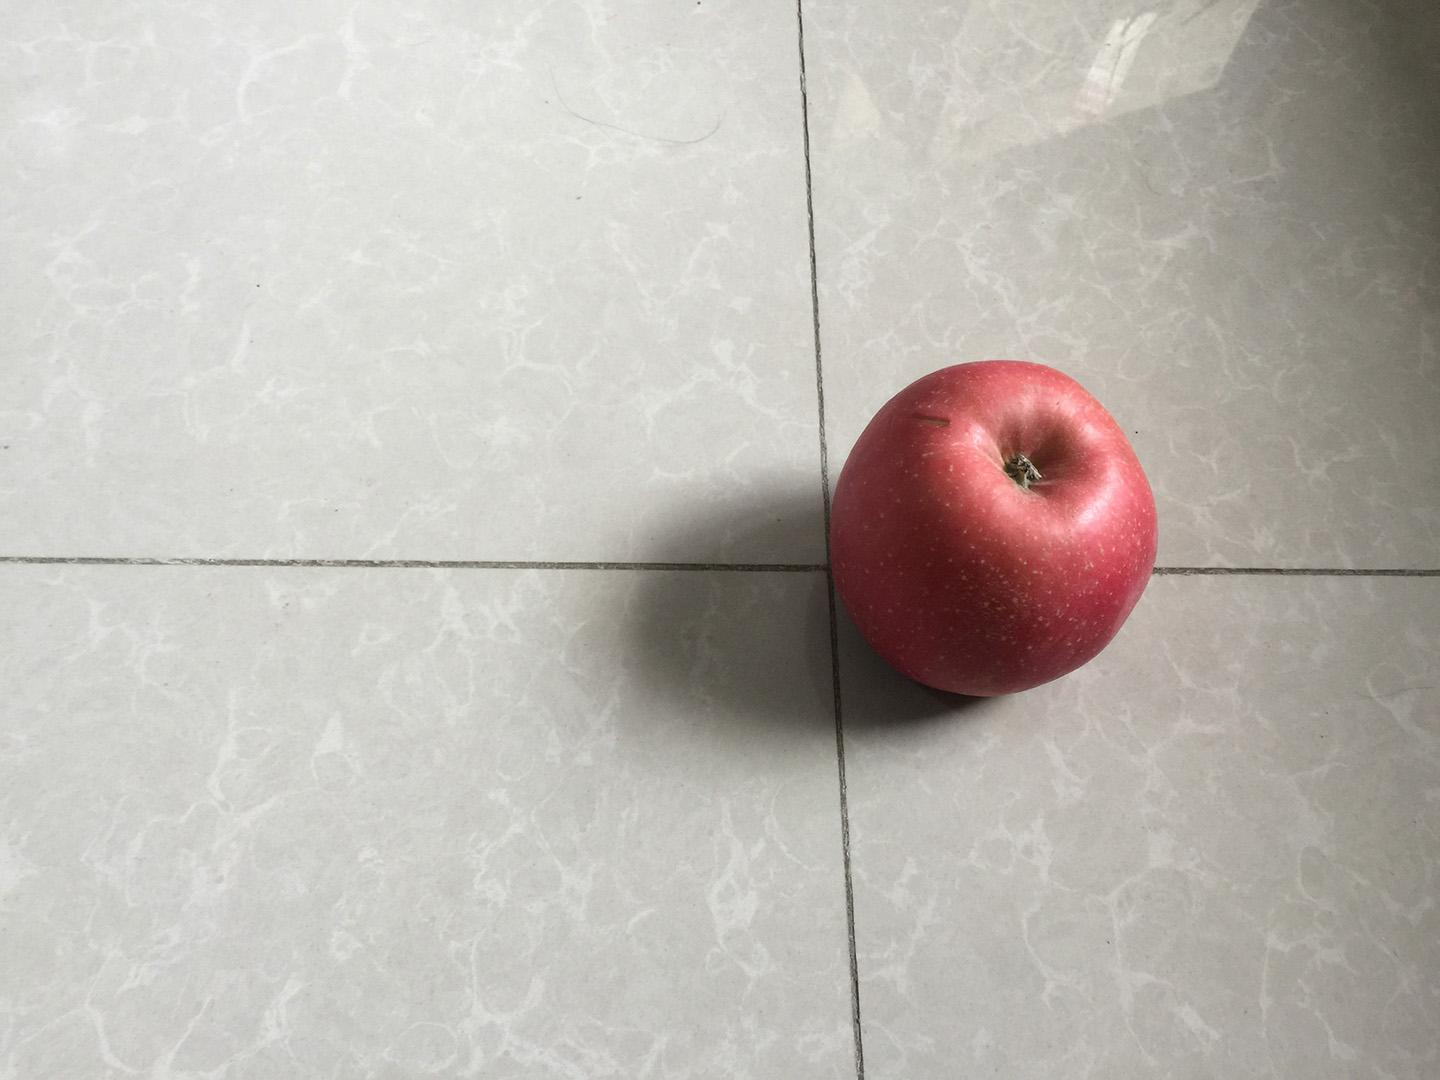apple: (820, 355, 1161, 704)
